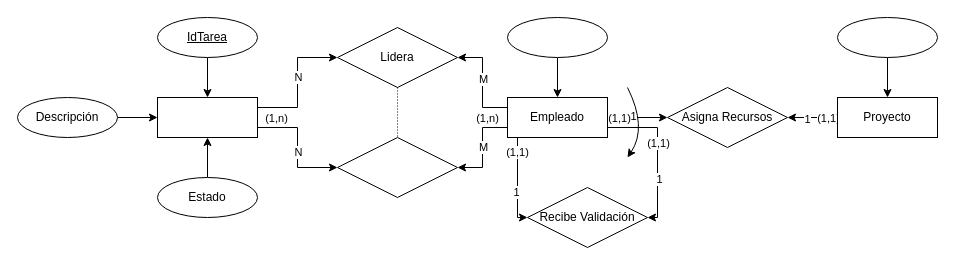
Image size: 955x265. Some labels were removed from this diagram. The shapes that lost their labels are listed below. From the top down, each one's centre as x and y in pixels, then its label:
At [557,37]: "IdEmpleado".
At [887,37]: "IdProyecto".
At [207,117]: "Tarea".
At [397,167]: "Ejecuta".
